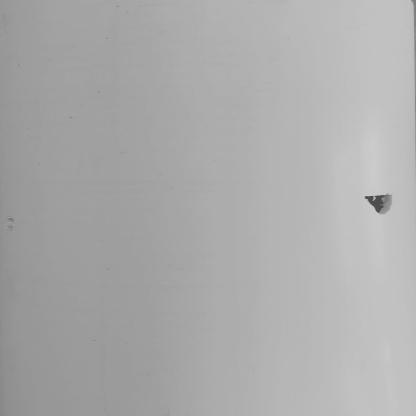kongdong: (356, 182, 401, 220)
